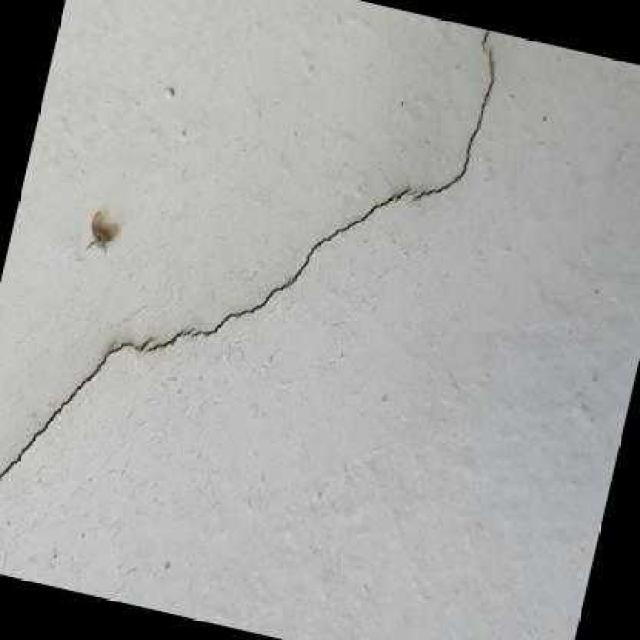D00: (0, 343, 131, 480), (412, 31, 494, 200), (288, 196, 396, 287), (192, 276, 294, 337), (147, 330, 183, 351), (139, 337, 153, 351), (395, 188, 410, 200), (183, 327, 194, 336)
